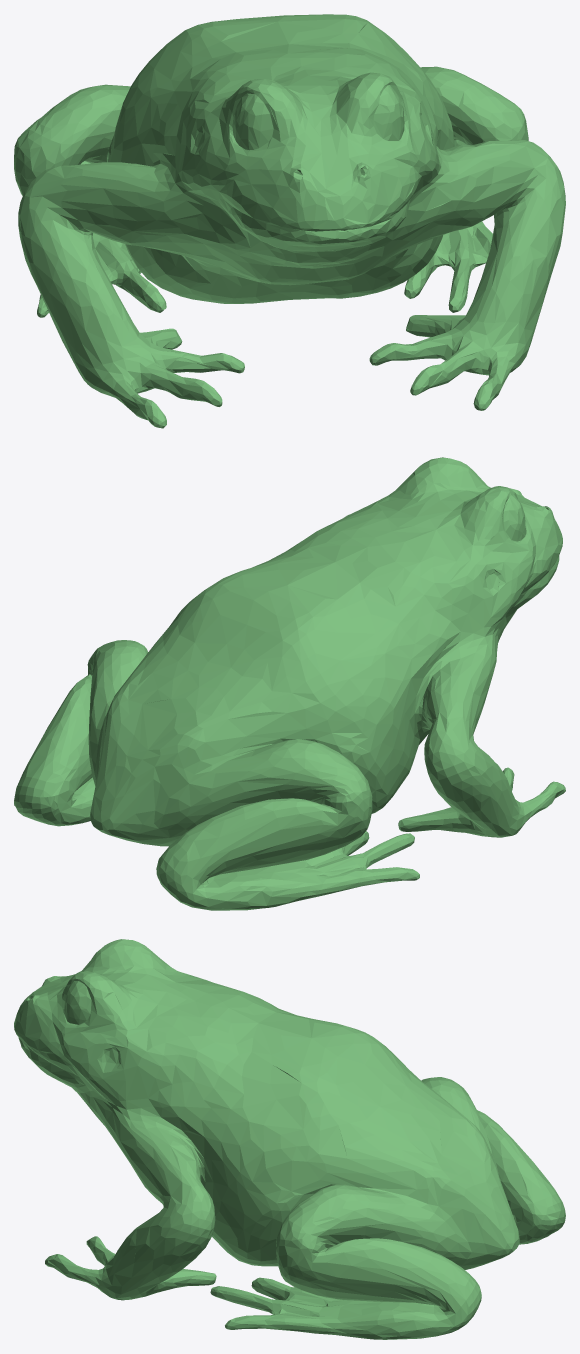
File: Fantabulous Kup(3).glb
The picture shows the model from 3 angles, top to bottom: view 1: azimuth 30°, elevation 25°; view 2: azimuth 150°, elevation 25°; view 3: azimuth 270°, elevation 25°; orthographic projection. The views are drawn at different scales.
Parts seen in each view (by area): view 1: Mesh_Mesh_head_geo.001_lambert2SG.001; view 2: Mesh_Mesh_head_geo.001_lambert2SG.001; view 3: Mesh_Mesh_head_geo.001_lambert2SG.001.
Boxes of the visible parts, left/top/right/bottom form: Mesh_Mesh_head_geo.001_lambert2SG.001: left=14, top=14, right=565, bottom=428; Mesh_Mesh_head_geo.001_lambert2SG.001: left=14, top=457, right=565, bottom=910; Mesh_Mesh_head_geo.001_lambert2SG.001: left=14, top=939, right=565, bottom=1339.
Bounding box in the file's own units: 5.99 × 4 × 7.51.
